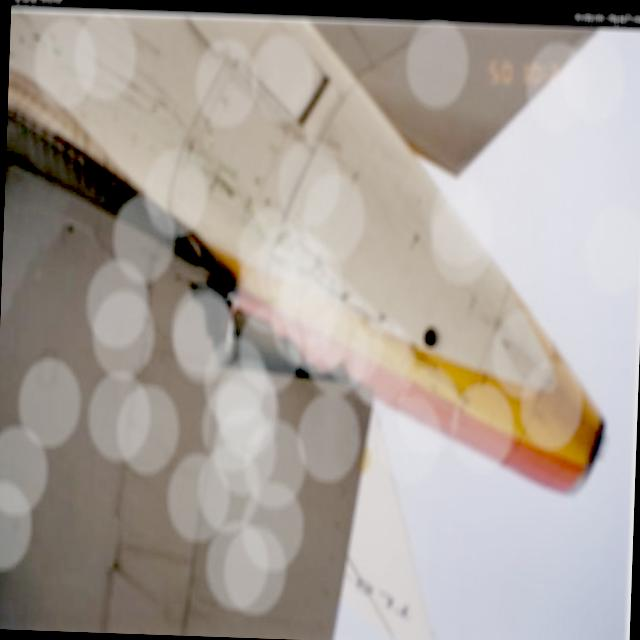crack: (170, 268, 348, 383)
